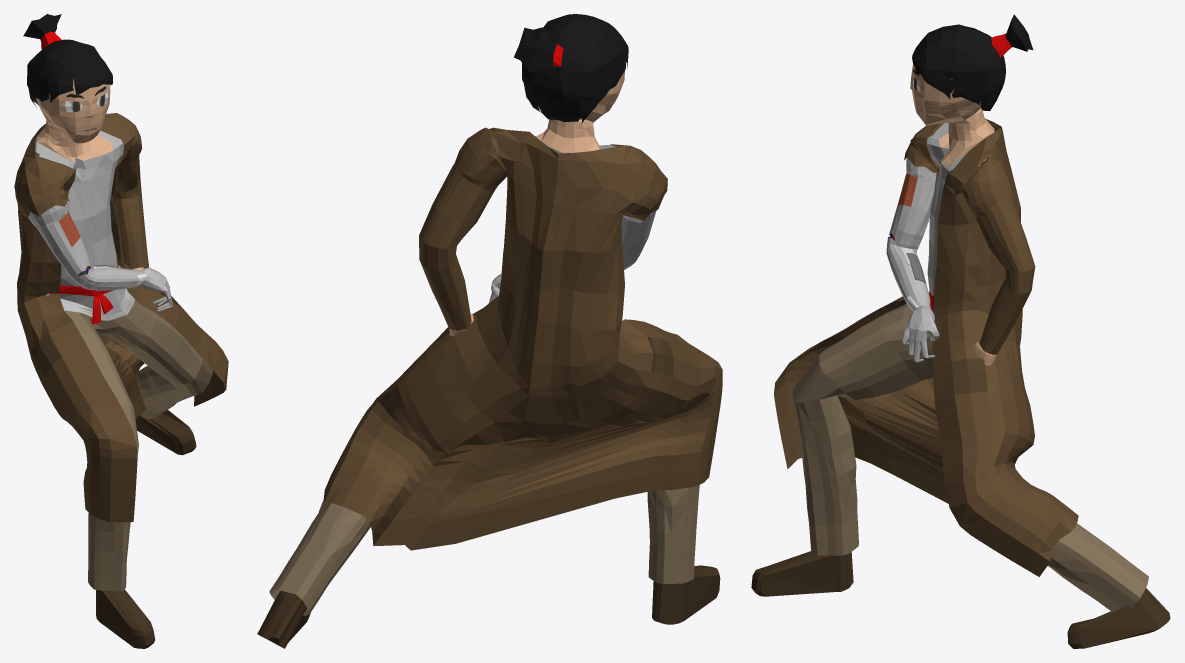
Rendered from One_RL_000008.obj.
3 views of the same model, side by side, from view 1: azimuth 30°, elevation 25°; view 2: azimuth 150°, elevation 25°; view 3: azimuth 270°, elevation 25° (orthographic). The views are drawn at different scales.
Parts seen in each view (by area): view 1: Hair_Cube.004; view 2: Hair_Cube.004; view 3: Hair_Cube.004.
Boxes of the visible parts, x1,y1,x2,y2 form: Hair_Cube.004: [14, 14, 228, 648]; Hair_Cube.004: [257, 14, 722, 648]; Hair_Cube.004: [751, 14, 1170, 648].
Bounding box in the file's own units: 1.62 × 3.51 × 2.27.
